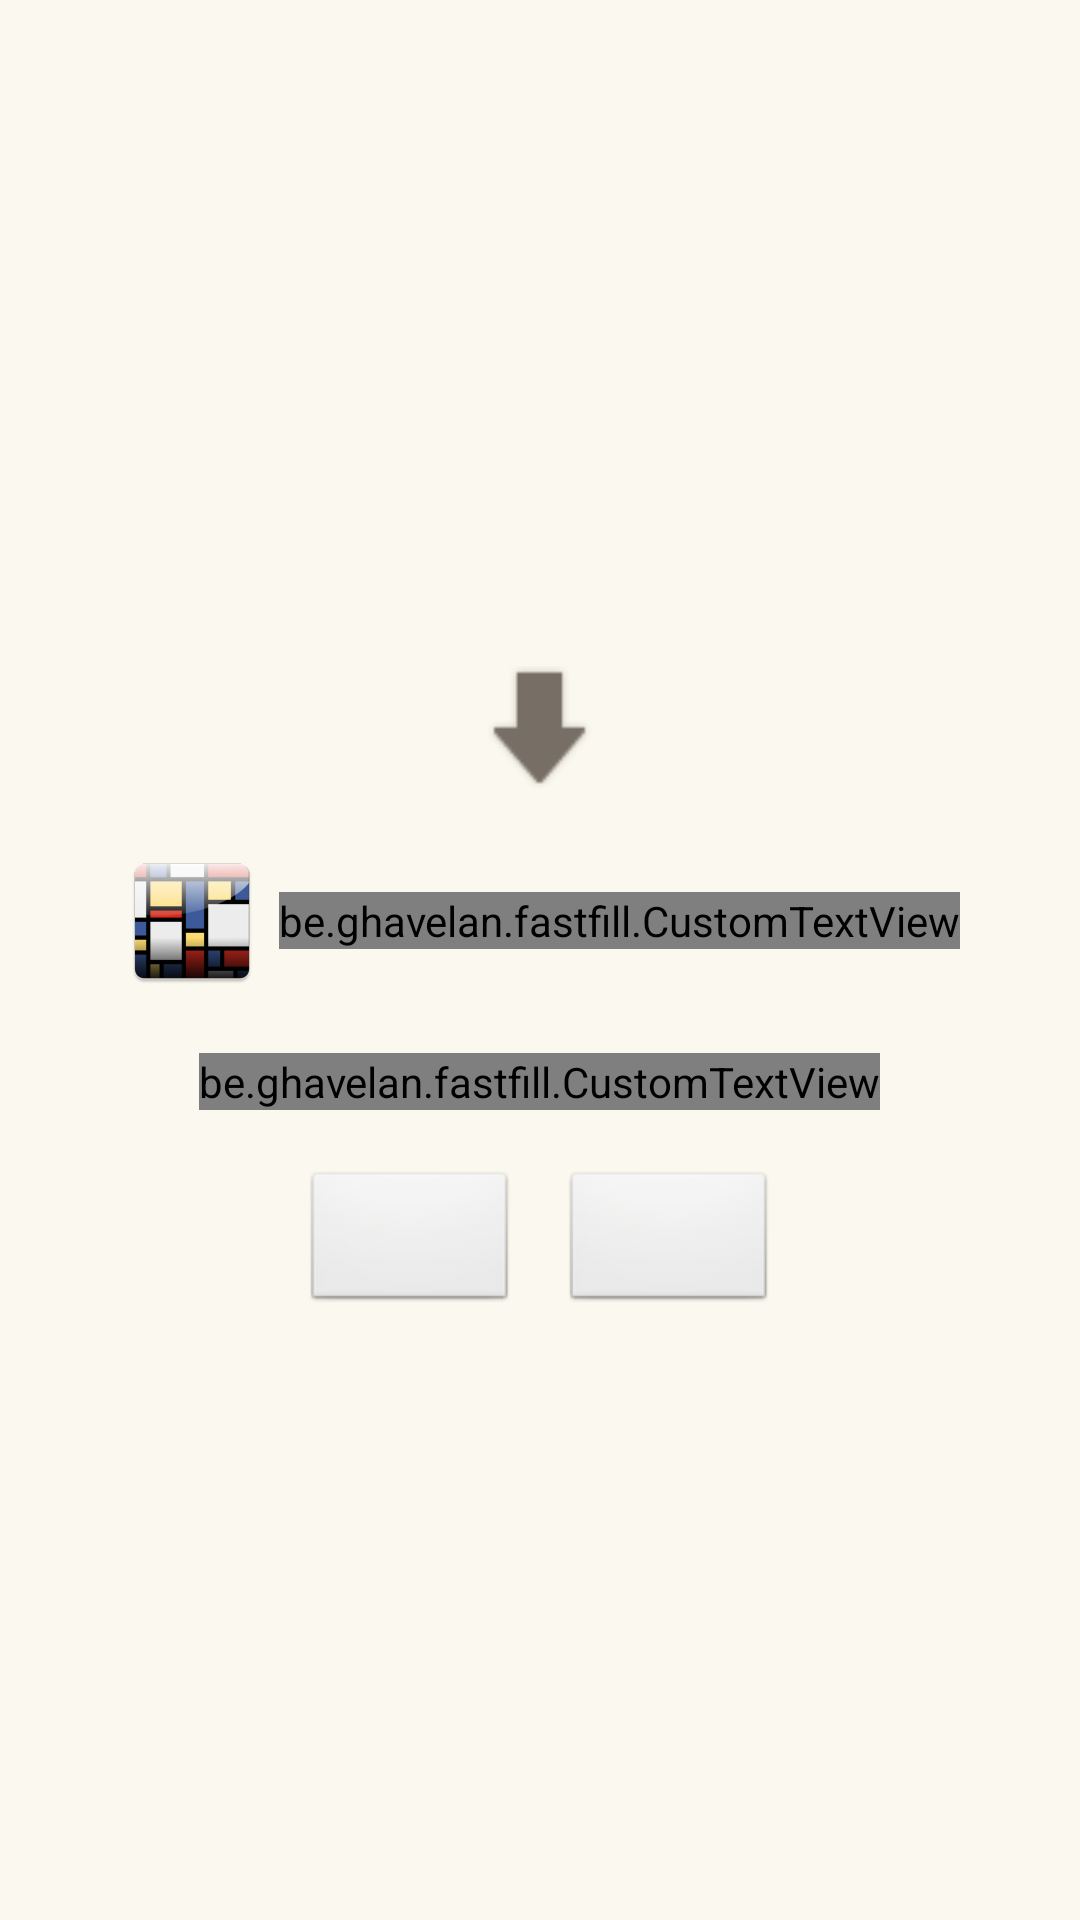

Where icons sit on this 1080px×1920px app screen, as BBox(x1, y1, x2, y2):
download: BBox(493, 671, 586, 784)
